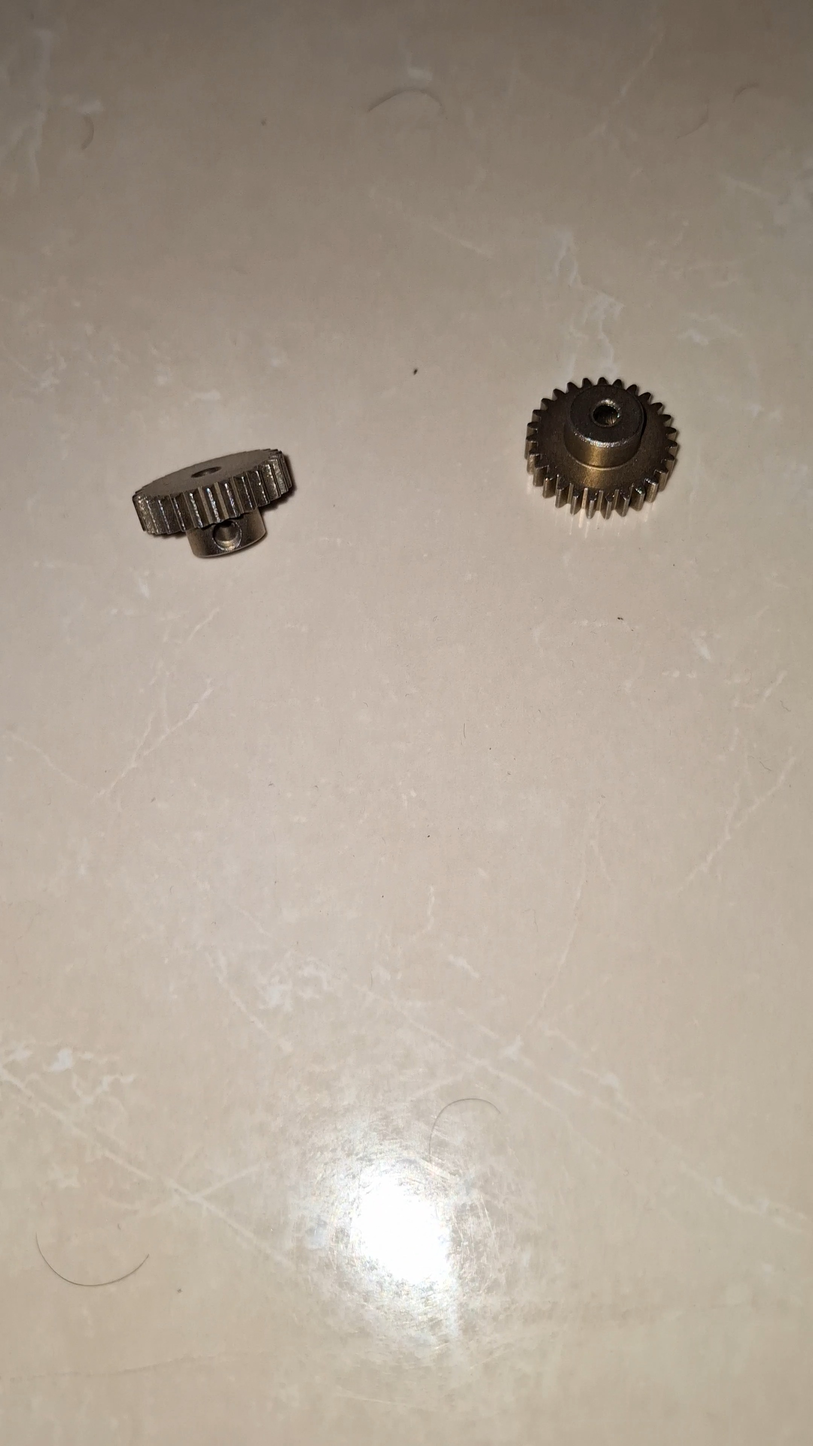spur gear: (525, 378, 677, 516), (134, 449, 292, 557)
